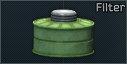Gas mask air filter: (0, 0, 127, 64)
